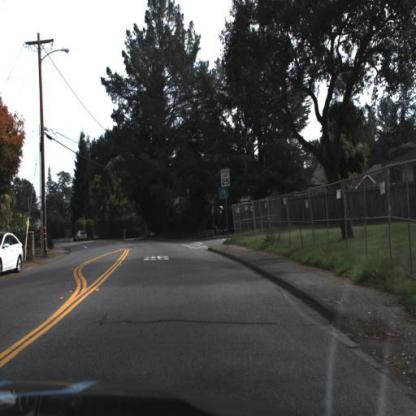car: (72, 228, 89, 246), (74, 229, 87, 243)
